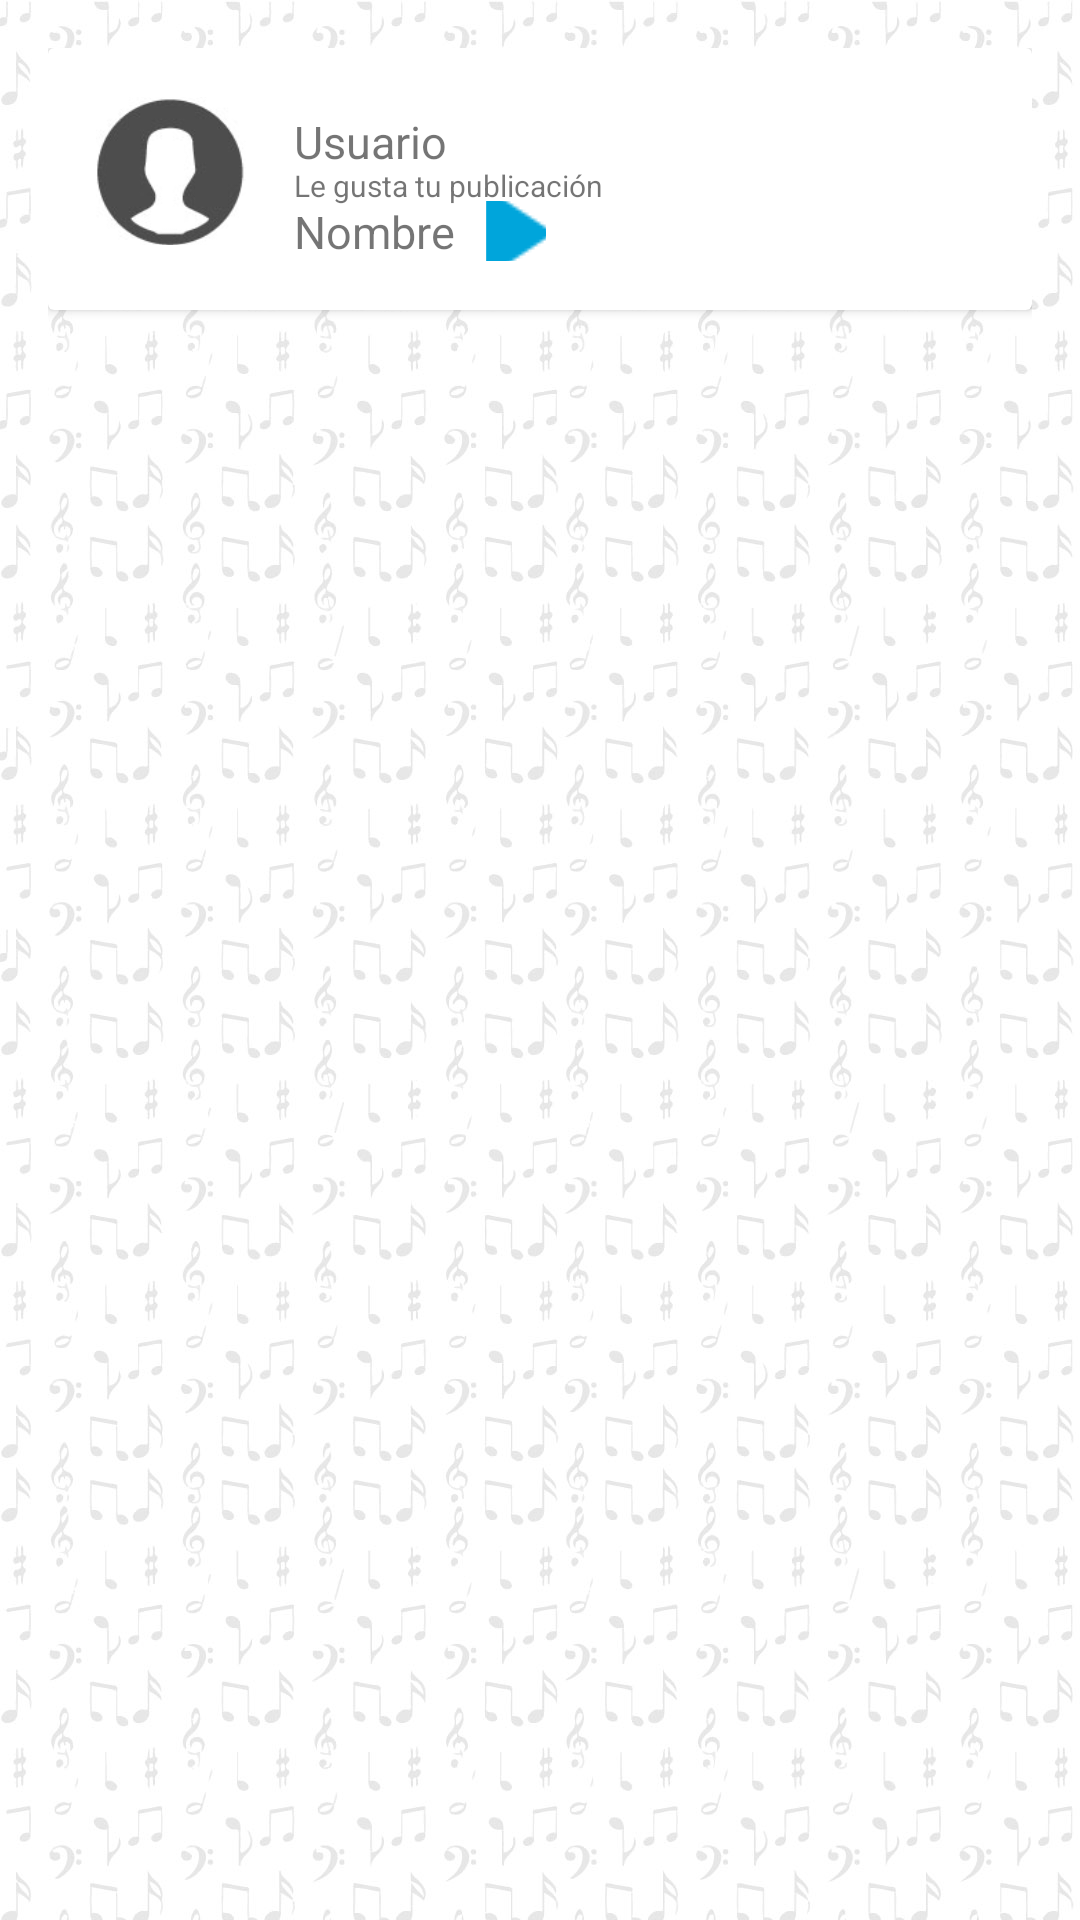

Screen size 1080×1920. Icon name, then its center in pixels as point (x, y):
iconoparaperfil: point (170, 172)
